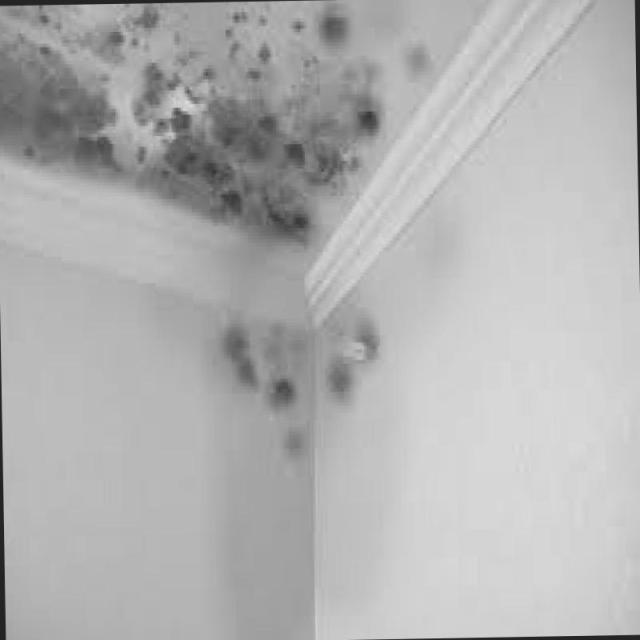stain marks: (0, 2, 450, 494)
